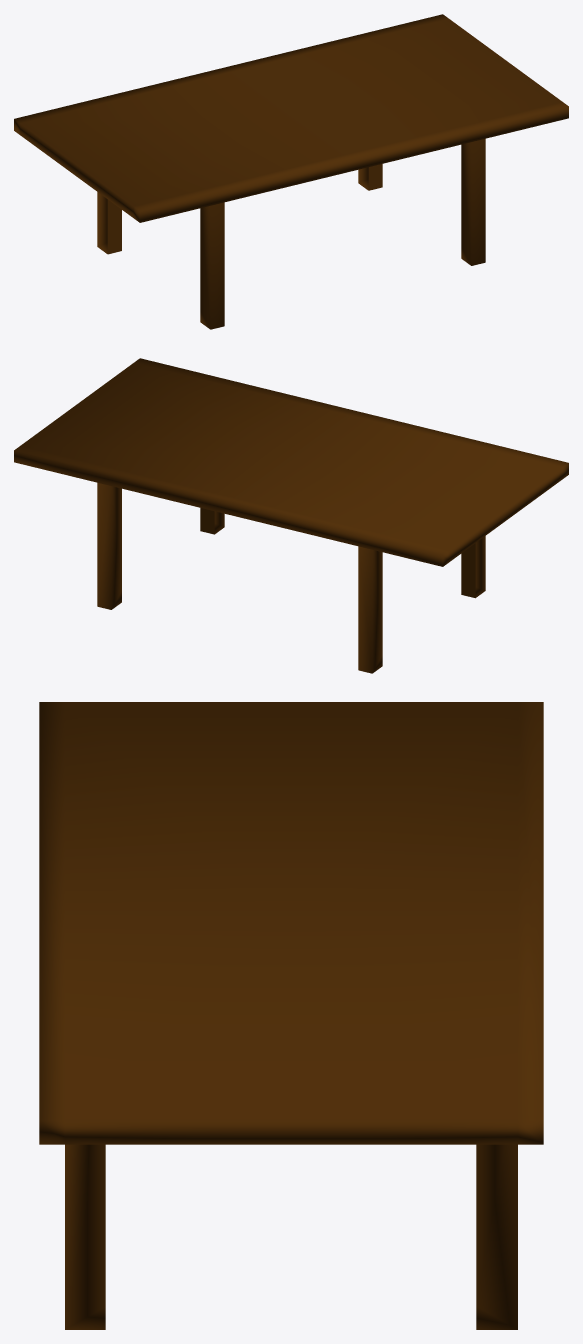
The model's file is table.gltf.
3 views of the same model, one above another, from view 1: azimuth 30°, elevation 25°; view 2: azimuth 150°, elevation 25°; view 3: azimuth 270°, elevation 25° (orthographic). The views are drawn at different scales.
Parts seen in each view (by area): view 1: table; view 2: table; view 3: table.
Part boxes in pixels (box(x1,y1,x2,y2)): table: box(14, 14, 568, 329); table: box(14, 358, 568, 673); table: box(39, 702, 543, 1329).
Bounding box in the file's own units: 5.84 × 1.85 × 2.97.
